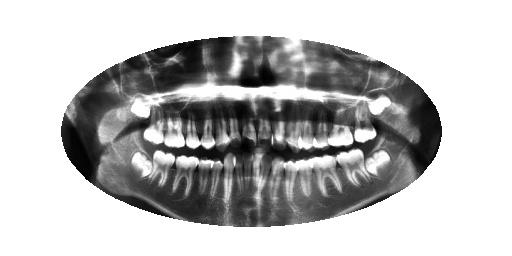i10decay: (230, 151, 245, 201)
i11healthy: (222, 151, 238, 203)
i12healthy: (207, 156, 224, 203)
i13healthy: (193, 156, 216, 201)
i14healthy: (170, 152, 203, 207)
i15healthy: (145, 149, 177, 191)
i16healthy: (127, 150, 157, 185)
i1healthy: (358, 140, 395, 184)
i2healthy: (335, 147, 371, 188)
i3healthy: (308, 153, 343, 197)
i4healthy: (293, 152, 313, 202)
i5healthy: (280, 155, 301, 205)
i6healthy: (269, 151, 285, 203)
i7decay: (269, 97, 287, 148)
i8healthy: (250, 146, 267, 198)
i9decay: (243, 148, 256, 201)
u10decay: (222, 96, 242, 153)
u11healthy: (359, 83, 396, 122), (208, 96, 231, 153)
u12healthy: (197, 105, 216, 152)
u13healthy: (183, 110, 201, 153)
u14healthy: (160, 104, 186, 156)
u15healthy: (141, 99, 169, 145)
u16healthy: (124, 91, 155, 125)
u2healthy: (350, 97, 380, 147)
u3healthy: (327, 95, 356, 151)
u4healthy: (309, 97, 332, 151)
u5healthy: (295, 102, 316, 150)
u6healthy: (284, 99, 302, 151)
u7decay: (258, 151, 274, 204)
u8chipped: (253, 96, 273, 149)
u9chipped: (239, 98, 258, 148)
